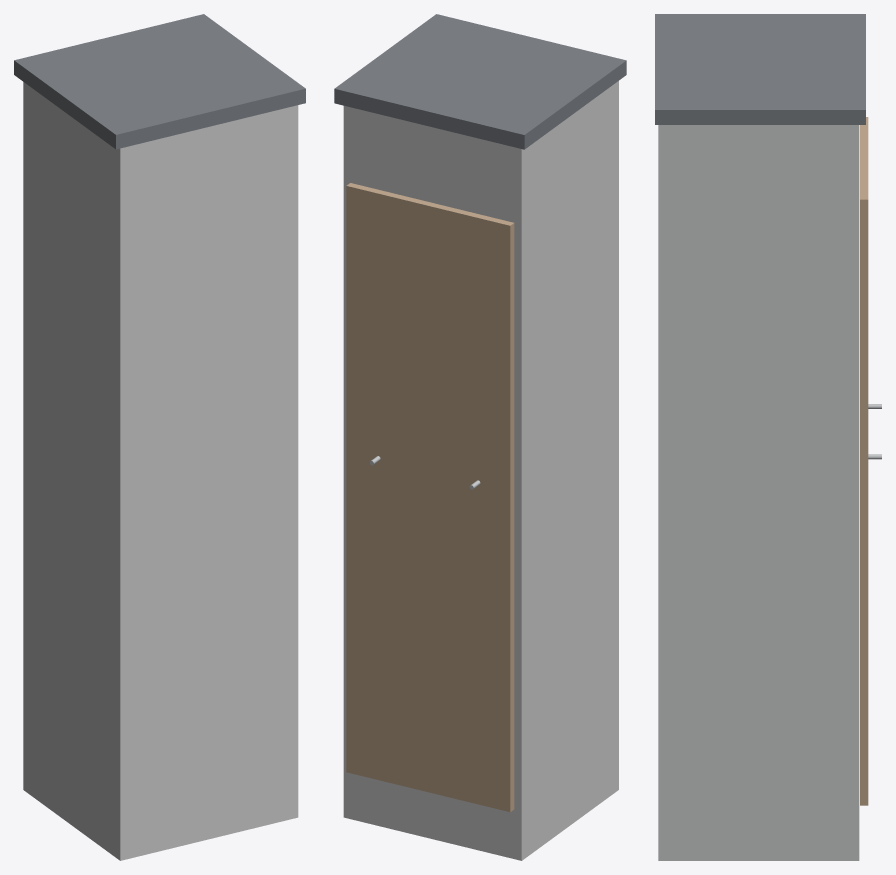
Rendered from kitchen-tall.glb.
3 renders of one model, left to right at view 1: azimuth 30°, elevation 25°; view 2: azimuth 150°, elevation 25°; view 3: azimuth 270°, elevation 25°, orthographic. The views are drawn at different scales.
Visible parts, largest first — view 1: cabinet_0, worktop_2; view 2: front_1, cabinet_0, worktop_2; view 3: cabinet_0, worktop_2, front_1.
Boxes of the visible parts, x1=… form: cabinet_0: x1=23, y1=82, x2=298, y2=860; worktop_2: x1=14, y1=14, x2=305, y2=149; front_1: x1=346, y1=183, x2=514, y2=812; cabinet_0: x1=343, y1=81, x2=618, y2=860; worktop_2: x1=334, y1=14, x2=626, y2=149; cabinet_0: x1=658, y1=125, x2=859, y2=860; worktop_2: x1=655, y1=14, x2=865, y2=124; front_1: x1=860, y1=117, x2=868, y2=805.
Size of the model in its own units: 0.6 by 2.2 by 0.6.
